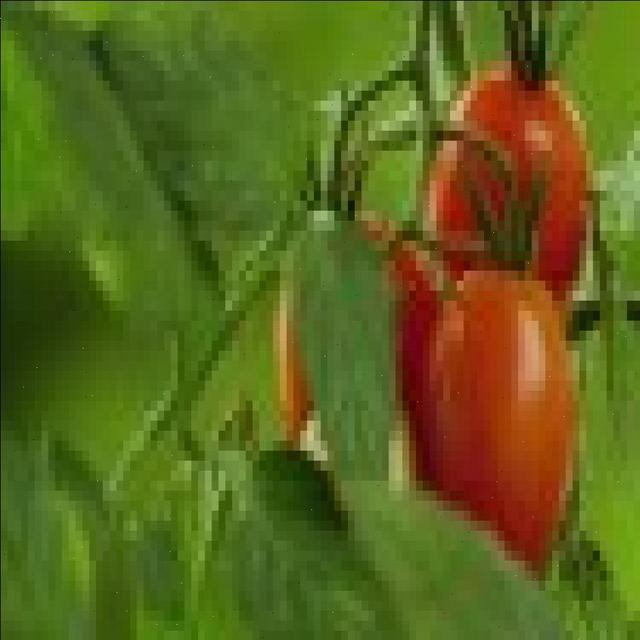Healthy Fruit: (106, 124, 346, 273)
